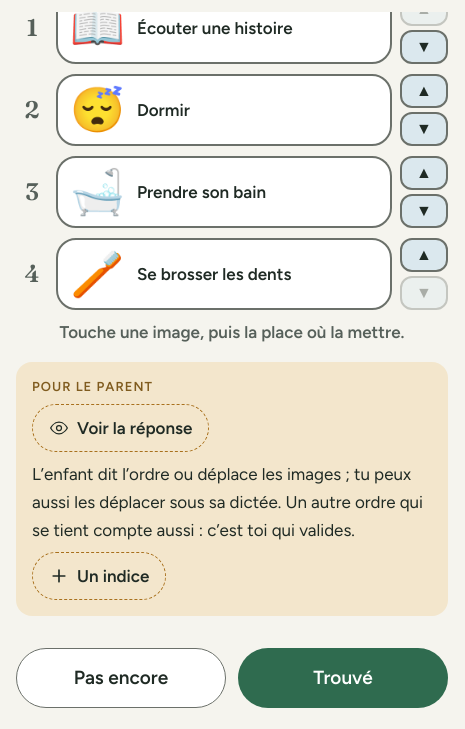
it: Remets dans l’ordre › le parent peut montrer le bon ordre
(page scrolled)
What coordinates should you click on to do the following:
click the button "Voir la réponse"
I would click on:
 (121, 428)
Its box is [32, 404, 209, 452].
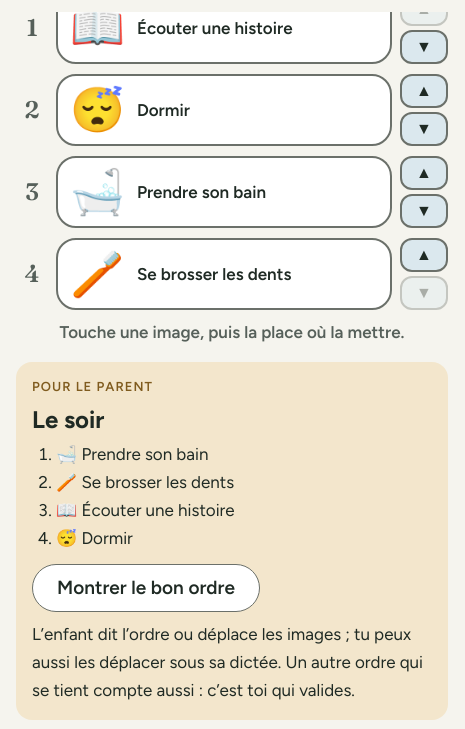
What coordinates should you click on to do the following:
click the button "Montrer le bon ordre"
I would click on:
 (146, 588)
Its box is [32, 564, 260, 612].
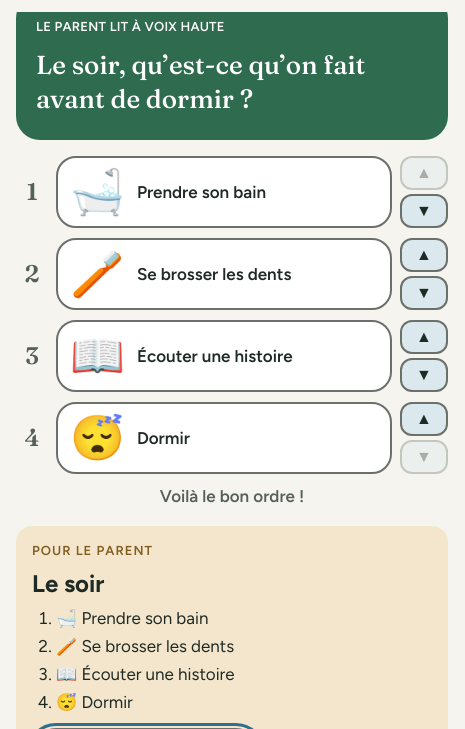
Expected: the message reads "Voilà le bon ordre !", [160, 486, 304, 506]
